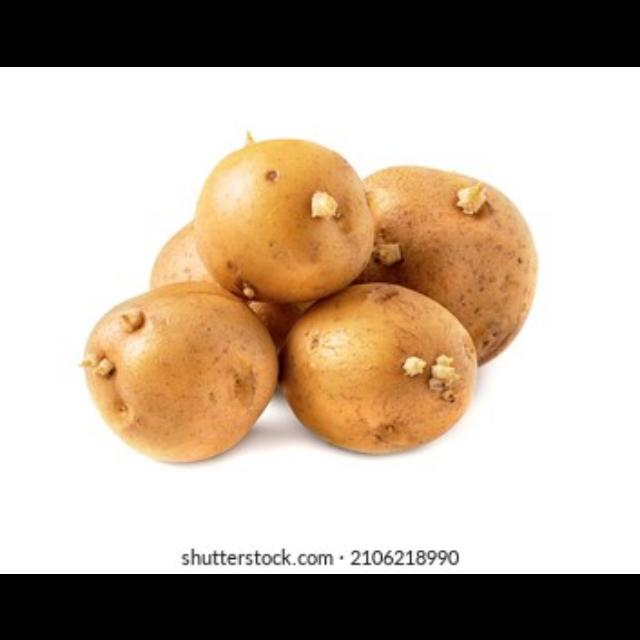Sprouted potato: (61, 279, 301, 477), (350, 156, 540, 364), (278, 280, 482, 462), (190, 122, 376, 308)
